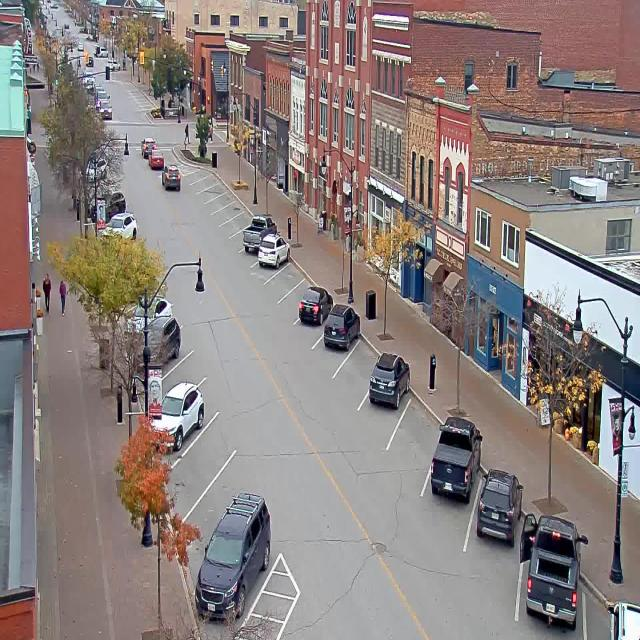available: (394, 372, 446, 470), (181, 399, 241, 476), (203, 446, 267, 508), (345, 326, 383, 385), (161, 350, 214, 389), (276, 249, 305, 286), (289, 272, 318, 305), (222, 193, 244, 223), (231, 207, 253, 235), (213, 185, 234, 211), (190, 160, 210, 184), (207, 178, 226, 203), (199, 170, 216, 192)
occupied: (194, 491, 272, 621), (524, 514, 588, 629), (430, 416, 482, 502), (150, 380, 204, 452), (586, 569, 640, 639), (476, 468, 523, 546), (369, 351, 410, 409), (323, 303, 360, 351), (242, 213, 277, 253), (298, 285, 333, 325), (257, 232, 290, 268)
